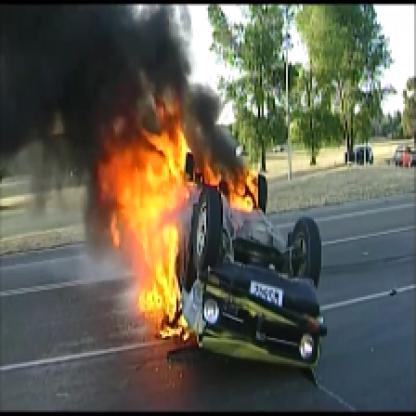Fire: (95, 104, 275, 338)
